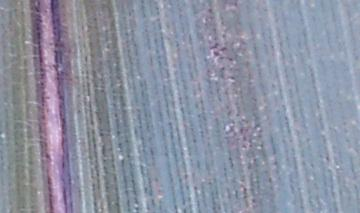tarspot: (209, 40, 220, 50), (210, 48, 220, 57), (82, 54, 89, 64), (226, 56, 234, 62)
